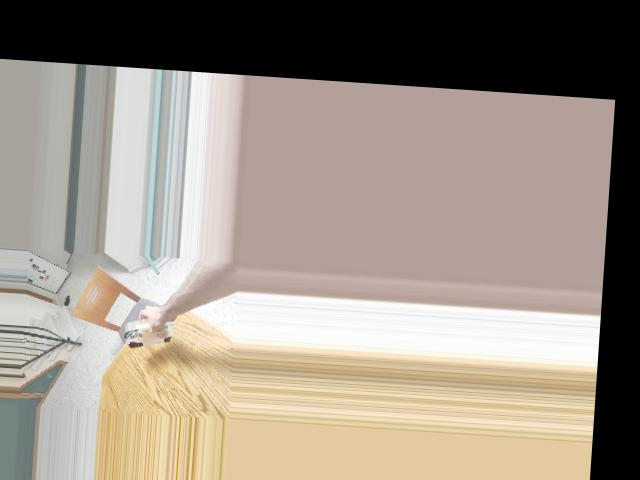cheese: (125, 315, 174, 350)
